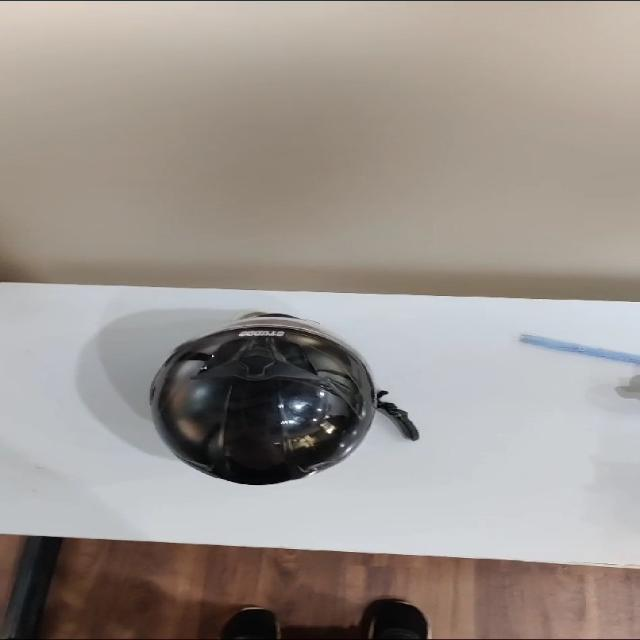helmet: (106, 309, 420, 481)
